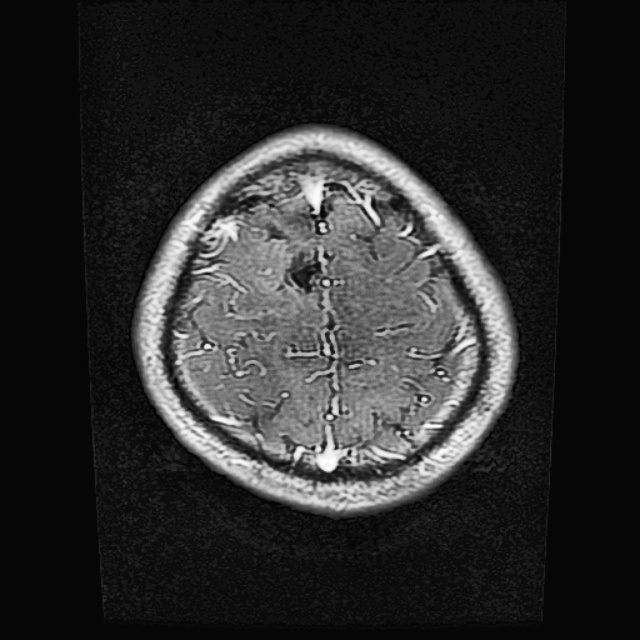Glioma: (283, 247, 327, 289)
